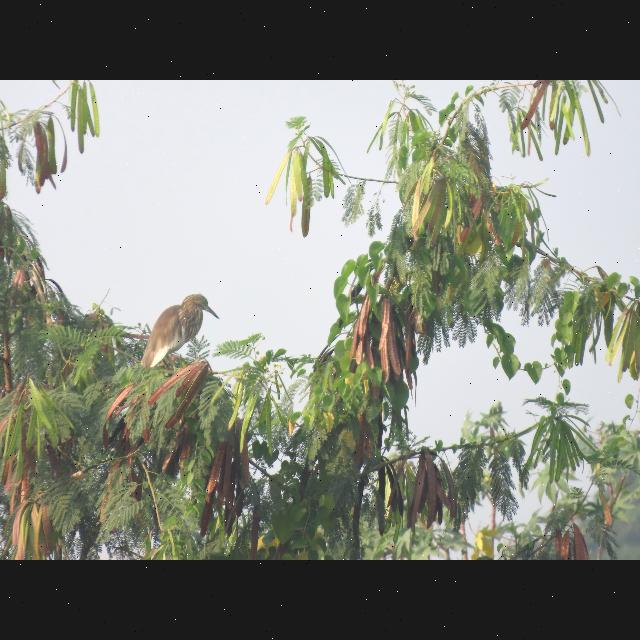heron: (130, 284, 224, 382)
